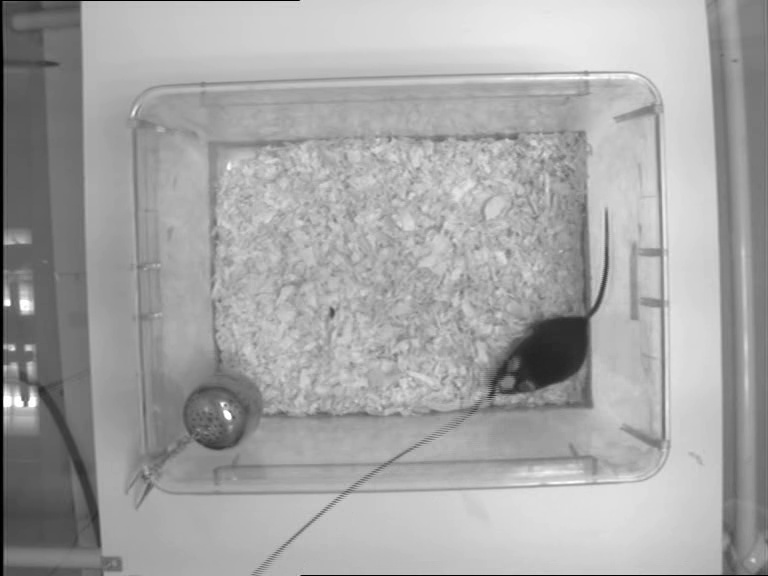mice: (487, 209, 609, 395)
